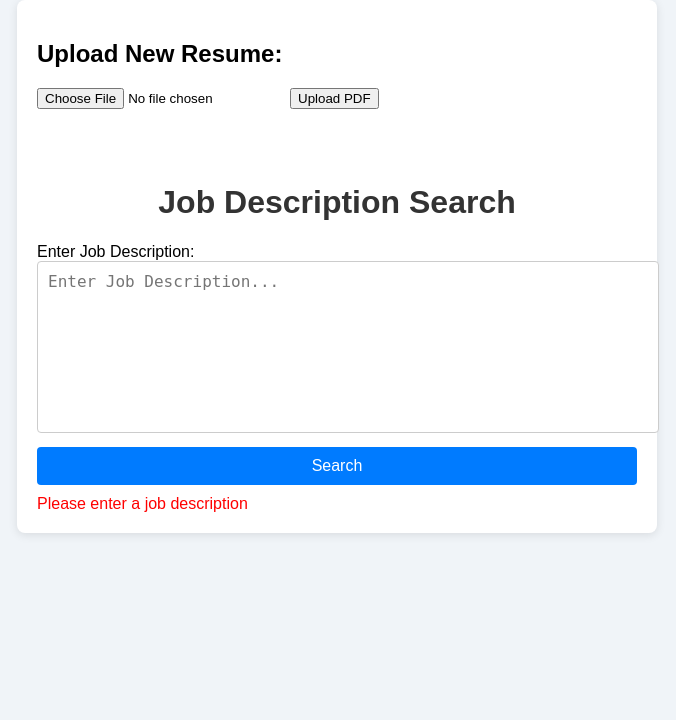
App Component › handles multiple search results
Type "Software Engineer" into the text box labelled "Enter Job Description:" at {"x": 348, "y": 347}, box [37,261,659,433]
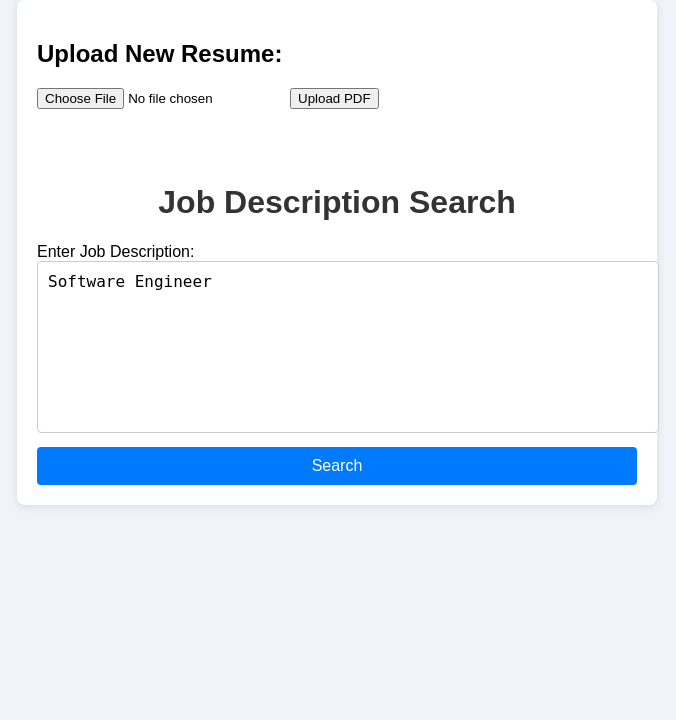
Click the button "Search" at {"x": 337, "y": 466}, box [37,447,637,485]
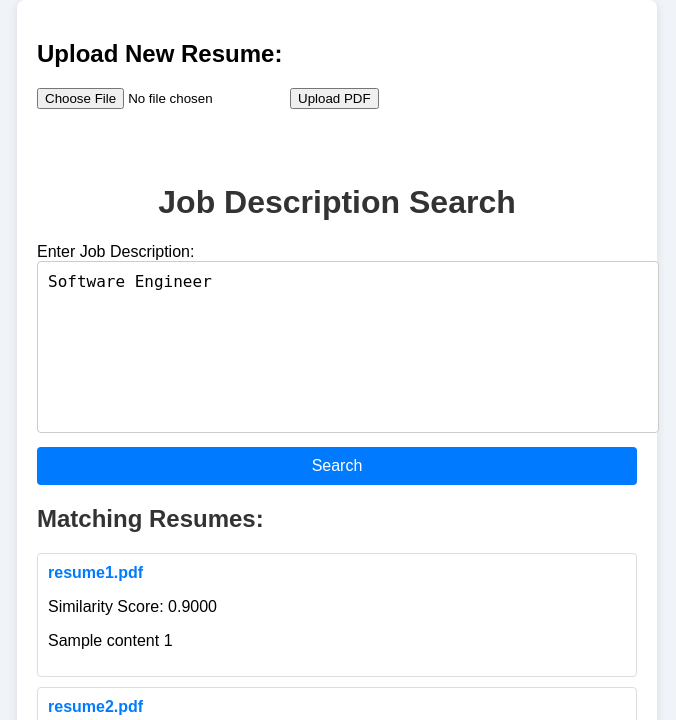
Check: the number of links is 2, box [48,564,143,581]; [48,698,143,715]
Check: the link "resume1.pdf" is shown, box [48,564,143,581]
Check: the link "resume2.pdf" is shown, box [48,698,143,715]
